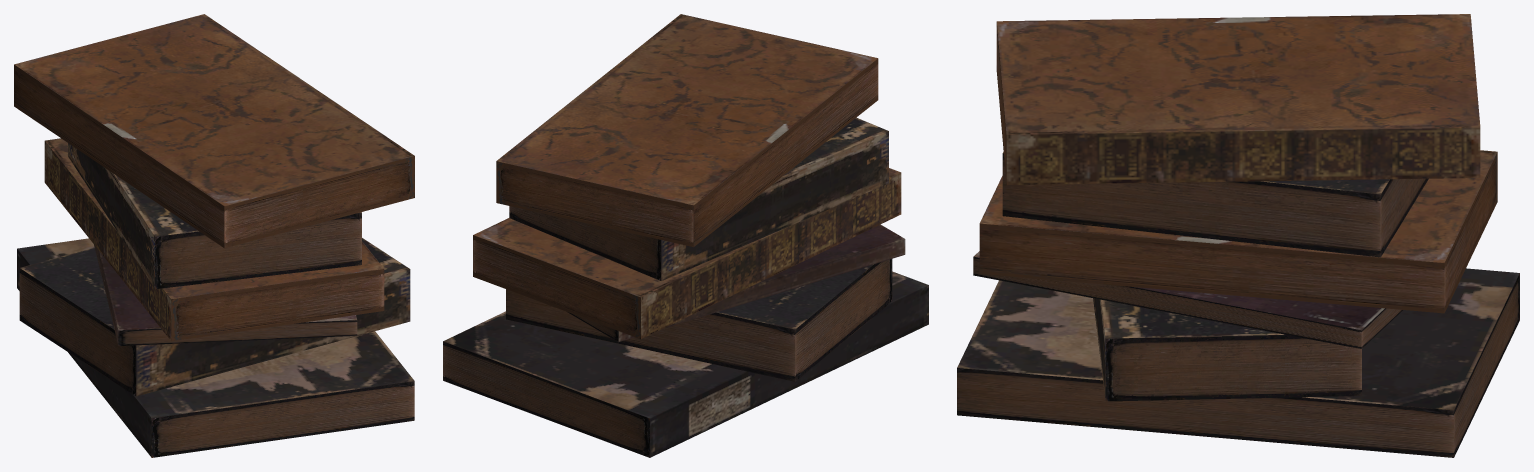
Rendered from BookB.fbx.
3 renders of one model, left to right at view 1: azimuth 30°, elevation 25°; view 2: azimuth 150°, elevation 25°; view 3: azimuth 270°, elevation 25°, orthographic. The views are drawn at different scales.
Parts seen in each view (by area): view 1: SM_BookPileB_LOD0; view 2: SM_BookPileB_LOD0; view 3: SM_BookPileB_LOD0.
Boxes of the visible parts, box(x1,y1,x2,y2) form: SM_BookPileB_LOD0: box(14, 14, 414, 457); SM_BookPileB_LOD0: box(443, 14, 928, 457); SM_BookPileB_LOD0: box(957, 14, 1519, 457).
Bounding box in the file's own units: 33.78 × 25 × 43.57.
